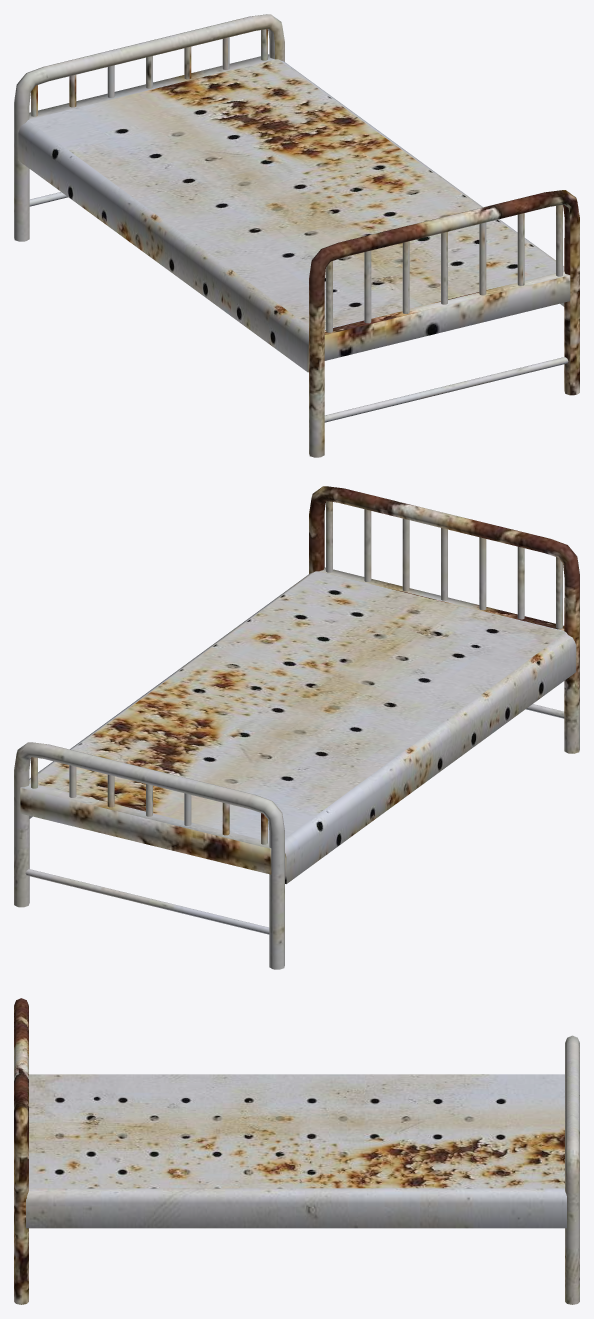
Rendered from Bed.glb.
The picture shows the model from 3 angles, top to bottom: view 1: azimuth 30°, elevation 25°; view 2: azimuth 150°, elevation 25°; view 3: azimuth 270°, elevation 25°; orthographic projection. The views are drawn at different scales.
Parts seen in each view (by area): view 1: Cube; view 2: Cube; view 3: Cube.
Boxes of the visible parts, bbox=[...] form: Cube: bbox=[14, 14, 579, 457]; Cube: bbox=[14, 486, 579, 969]; Cube: bbox=[14, 998, 579, 1304].
Size of the model in its own units: 2.51 by 1.83 by 4.89.
1 material, 1 textured.
